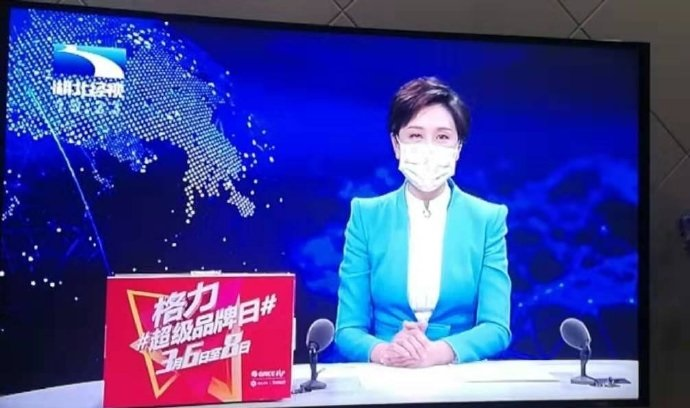mask: (398, 128, 472, 193)
